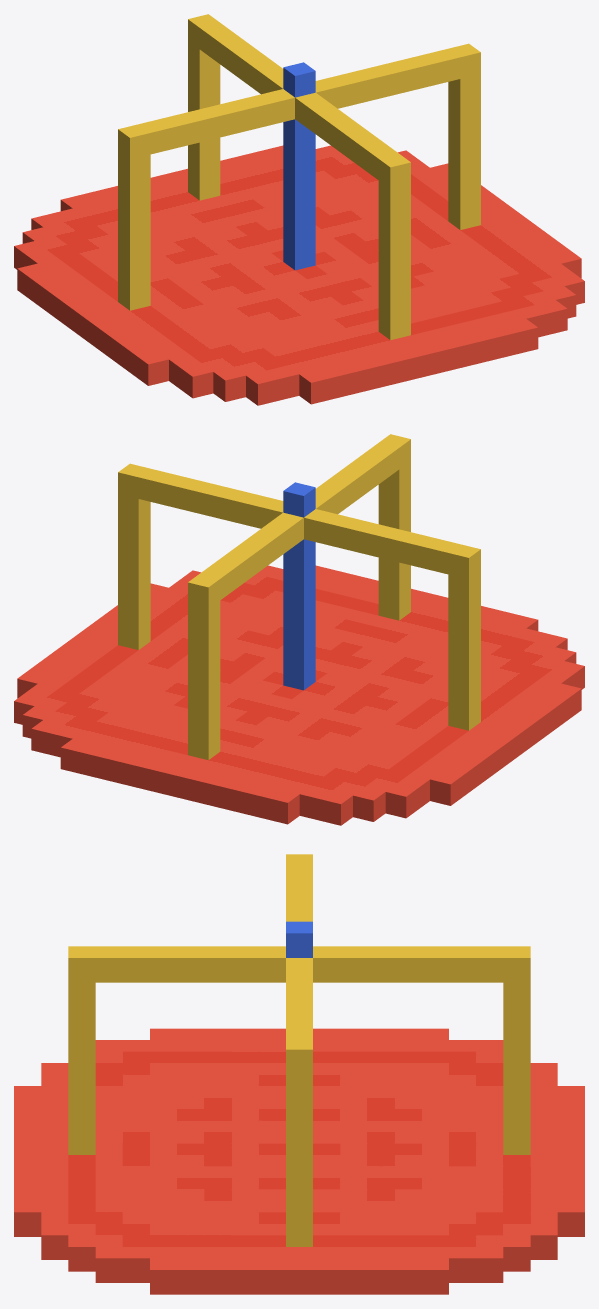
Rendered from Roundabout.obj.
3 views of the same model, one above another, from view 1: azimuth 30°, elevation 25°; view 2: azimuth 150°, elevation 25°; view 3: azimuth 270°, elevation 25° (orthographic). The views are drawn at different scales.
Visible parts, largest first — view 1: Cylinder; view 2: Cylinder; view 3: Cylinder.
Part boxes in pixels (box(x1,y1,x2,y2)): Cylinder: box(14, 14, 584, 405); Cylinder: box(14, 434, 584, 825); Cylinder: box(14, 854, 584, 1294).
Size of the model in its own units: 21 by 11 by 21.
1 material, 1 textured.
